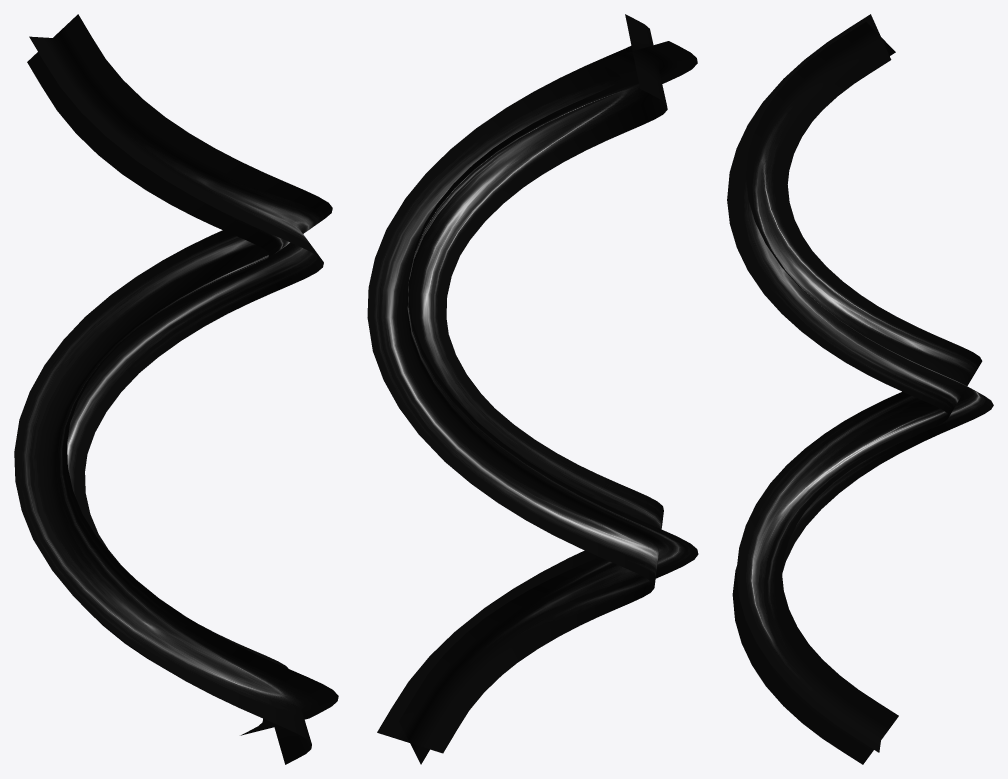
The model's file is 0391_piaodai_M.glb.
3 views of the same model, side by side, from view 1: azimuth 30°, elevation 25°; view 2: azimuth 150°, elevation 25°; view 3: azimuth 270°, elevation 25° (orthographic). The views are drawn at different scales.
Bounding box in the file's own units: 0.8288 × 2.2 × 0.8054.
1 material, 1 textured.
